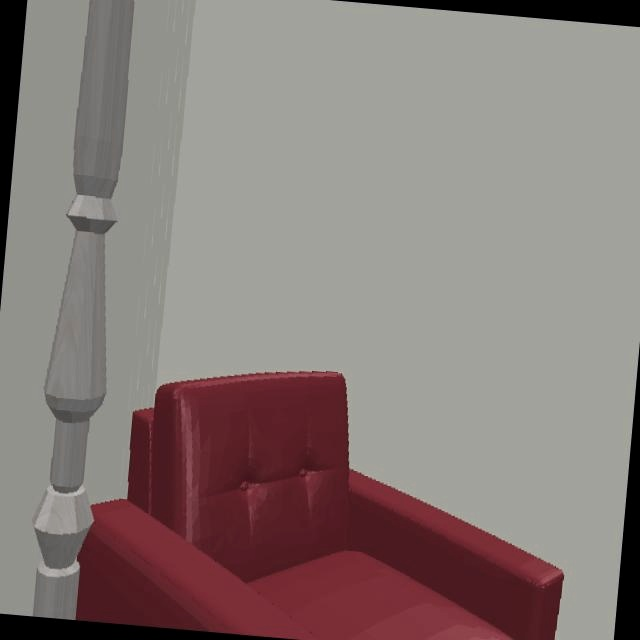sofa: (75, 371, 565, 640)
